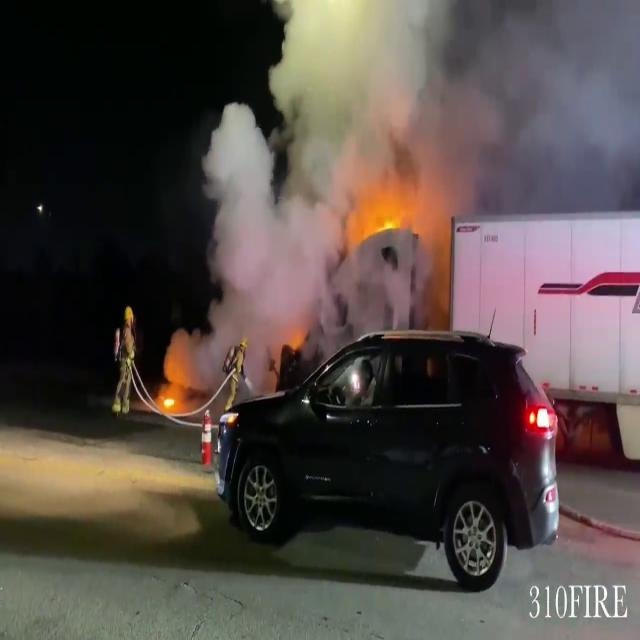Fire: (354, 196, 398, 245), (155, 385, 184, 416)
Smoke: (192, 0, 640, 322)
